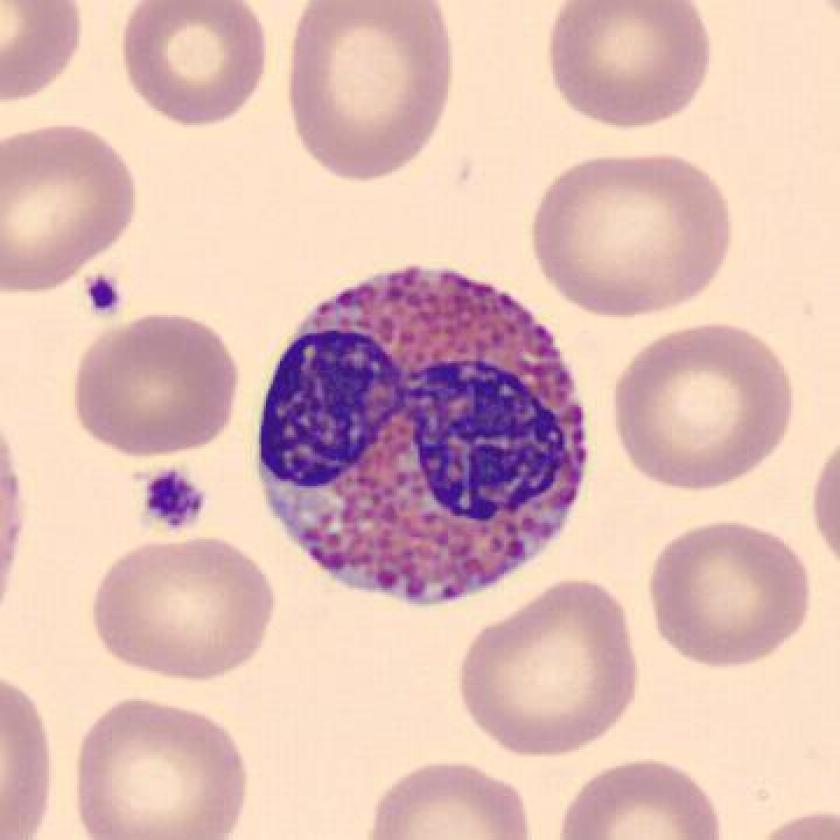eosinophil: (244, 260, 601, 619)
